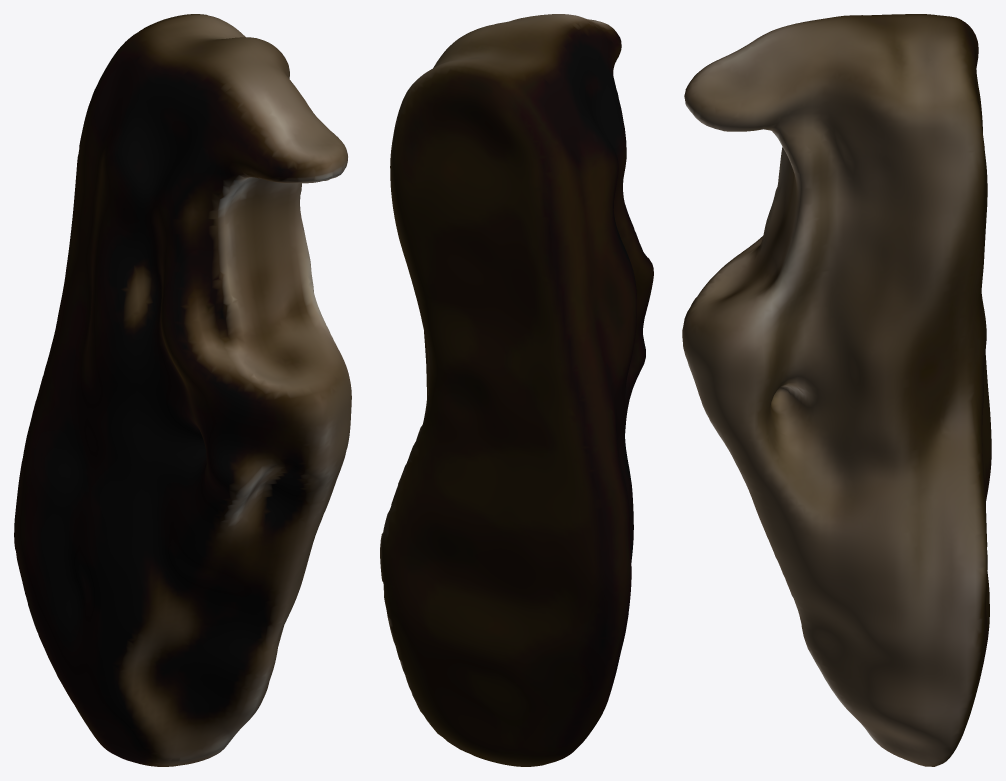
The model's file is shoe3.glb.
The picture shows the model from 3 angles, left to right: view 1: azimuth 30°, elevation 25°; view 2: azimuth 150°, elevation 25°; view 3: azimuth 270°, elevation 25°; orthographic projection. The views are drawn at different scales.
Size of the model in its own units: 0.352 by 0.9995 by 0.3801.
